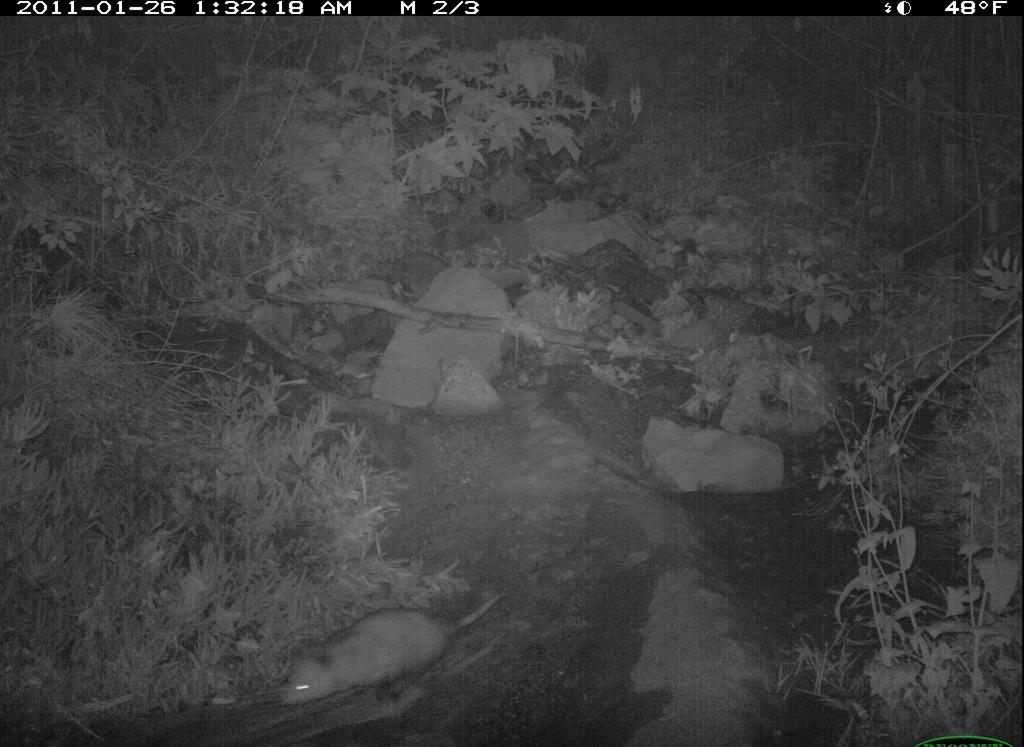opossum: (271, 561, 516, 729)
